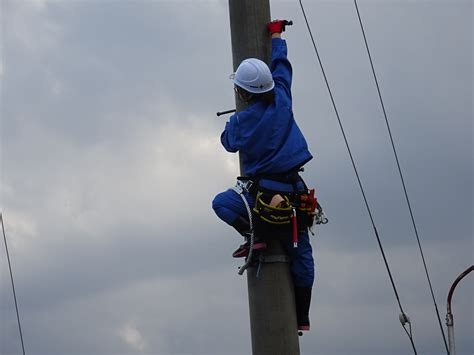blue: (232, 54, 276, 108)
